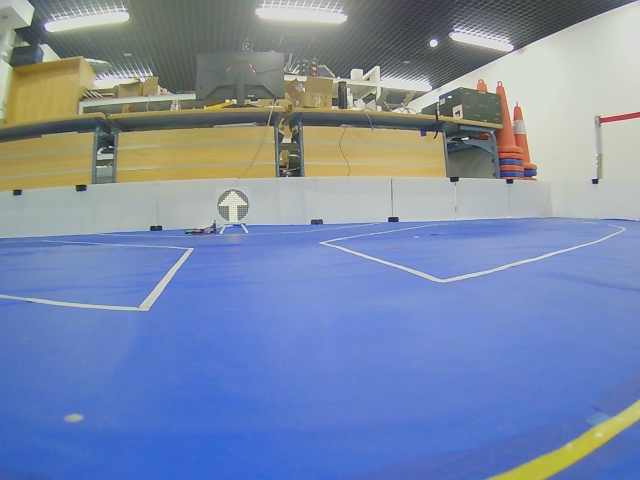straight_yellow: (218, 190, 248, 222)
